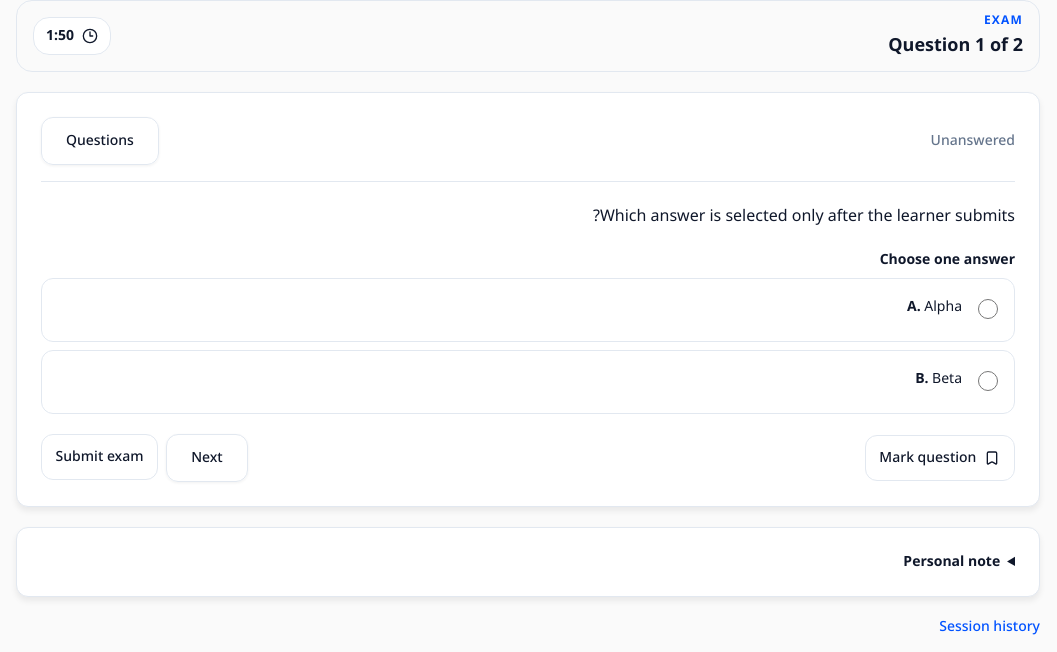
Teaching learner pages › anchors the timed Exam countdown to each fresh server remaining value
Expected: the element named "Time remaining 1:50" is shown, [33, 17, 111, 55]
Click the radio button labelled "A. Alpha" at (988, 309), box [978, 299, 998, 319]
Wait 3000 ms
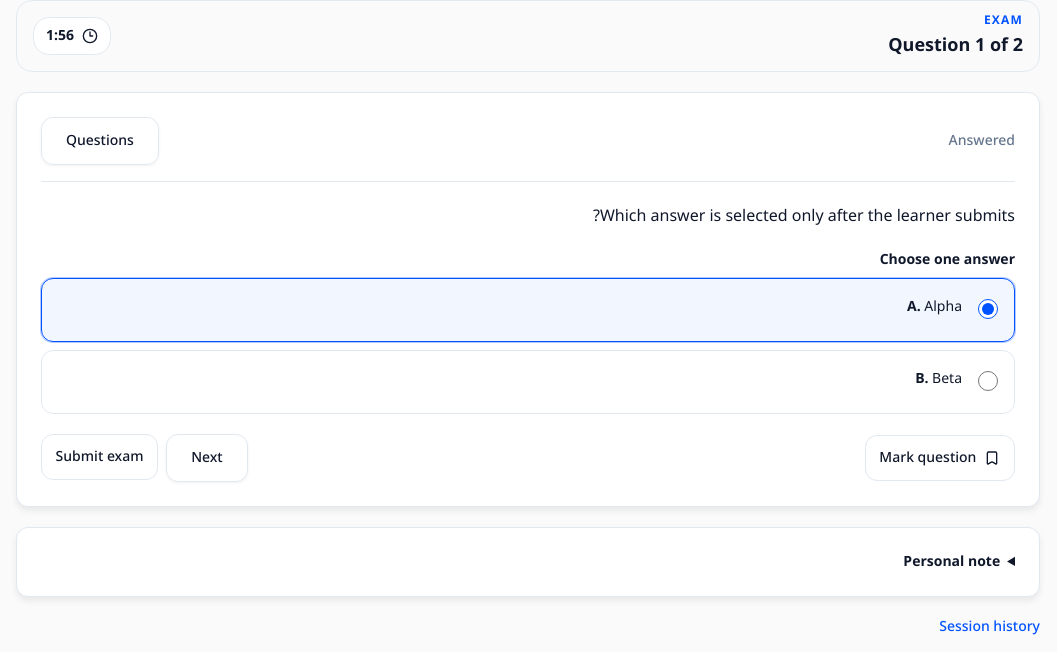
Now the element named "Time remaining 1:56" is shown, box [33, 17, 111, 55]
